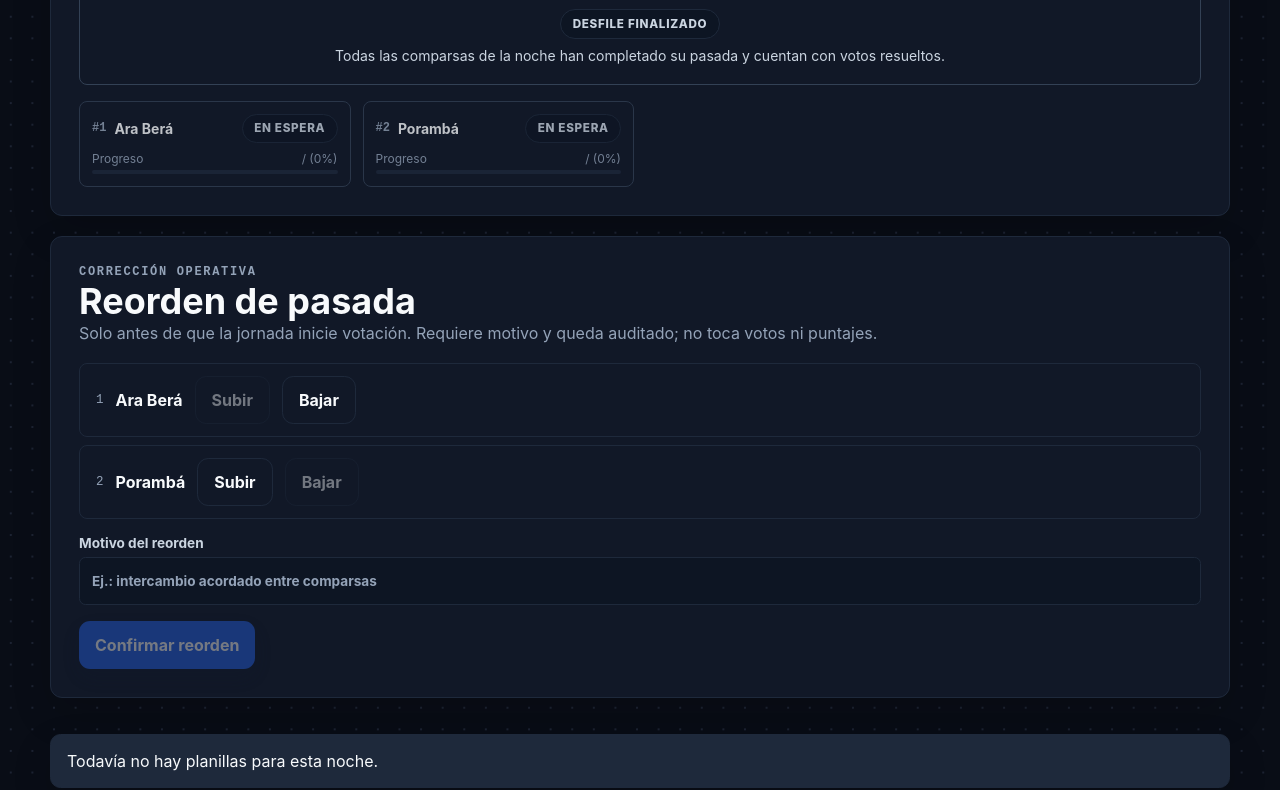
it: AdminVotingPage › exige motivo antes de confirmar el reorden
(page scrolled)
Check: the heading "Reorden de pasada" is shown, box [79,279,416,323]
Step 1. Click the button with aria-label "Bajar Ara Berá" → (319, 400), box [282,376,356,424]
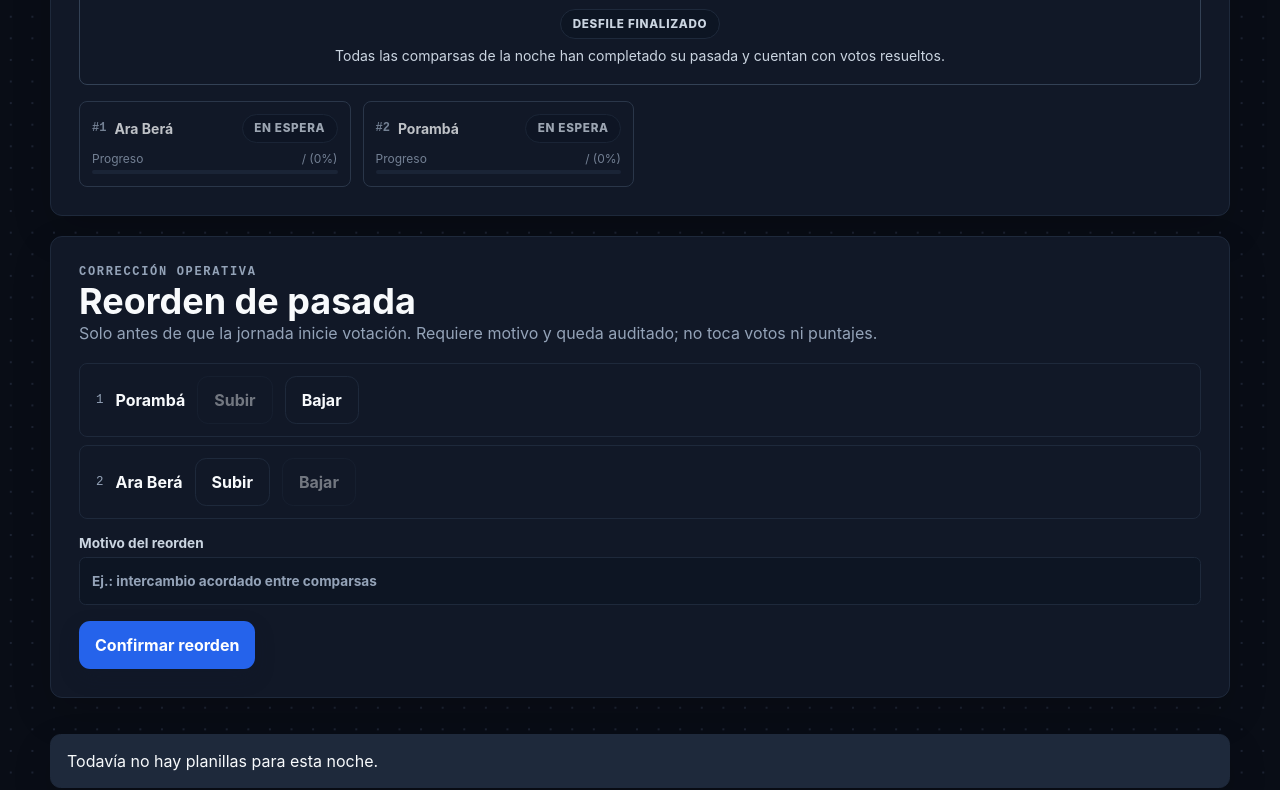
Step 2. Click the button "Confirmar reorden" → (167, 645), box [79,621,256,669]
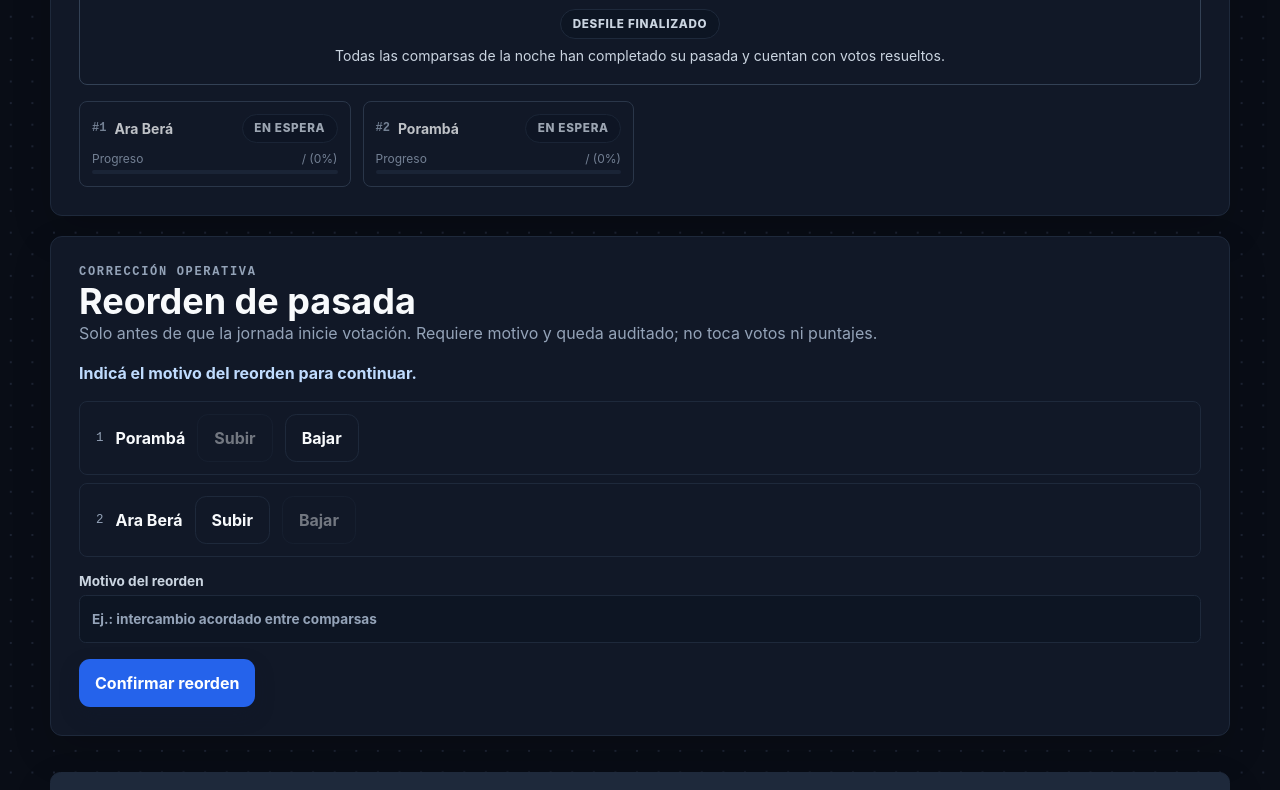
Check: the text "Indicá el motivo del reorden para continuar." is shown, box [79,363,417,383]
